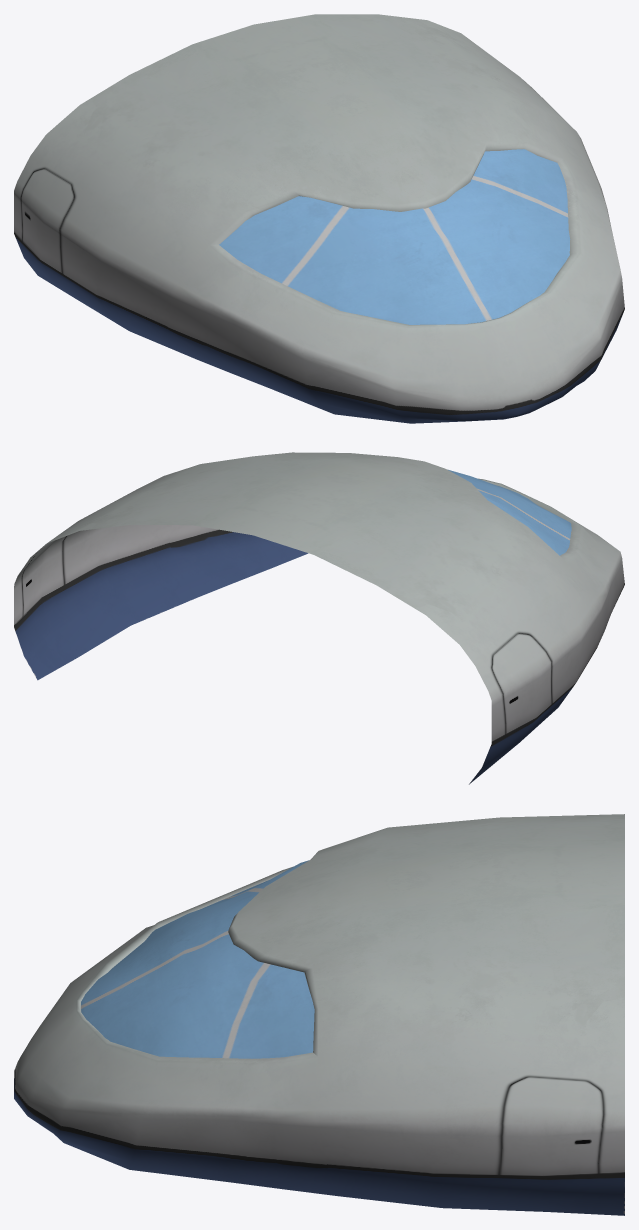
The model's file is Plane_nose_wide.fbx.
3 views of the same model, one above another, from view 1: azimuth 30°, elevation 25°; view 2: azimuth 150°, elevation 25°; view 3: azimuth 270°, elevation 25° (orthographic). The views are drawn at different scales.
Parts seen in each view (by area): view 1: env_asset_Nose_large; view 2: env_asset_Nose_large; view 3: env_asset_Nose_large.
Boxes of the visible parts, x1,y1,x2,y2 form: env_asset_Nose_large: (14, 14, 624, 423); env_asset_Nose_large: (14, 452, 624, 784); env_asset_Nose_large: (14, 814, 624, 1215).
Size of the model in its own units: 76.7 by 29.32 by 71.42.
